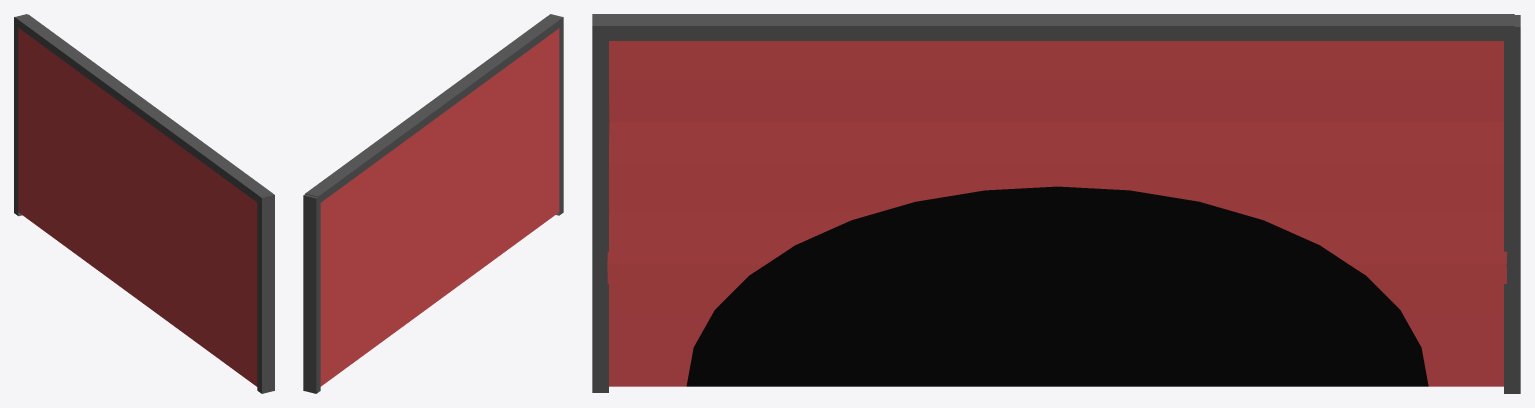
The model's file is Tunnel.fbx.
3 views of the same model, side by side, from view 1: azimuth 30°, elevation 25°; view 2: azimuth 150°, elevation 25°; view 3: azimuth 270°, elevation 25° (orthographic). The views are drawn at different scales.
Parts seen in each view (by area): view 1: Cube; view 2: Cube; view 3: Cube.
Part boxes in pixels (x1,y1,x2,y2): Cube: (14,14,274,393); Cube: (303,14,563,393); Cube: (592,14,1520,393).
Size of the model in its own units: 50.05 by 709 by 1621.
